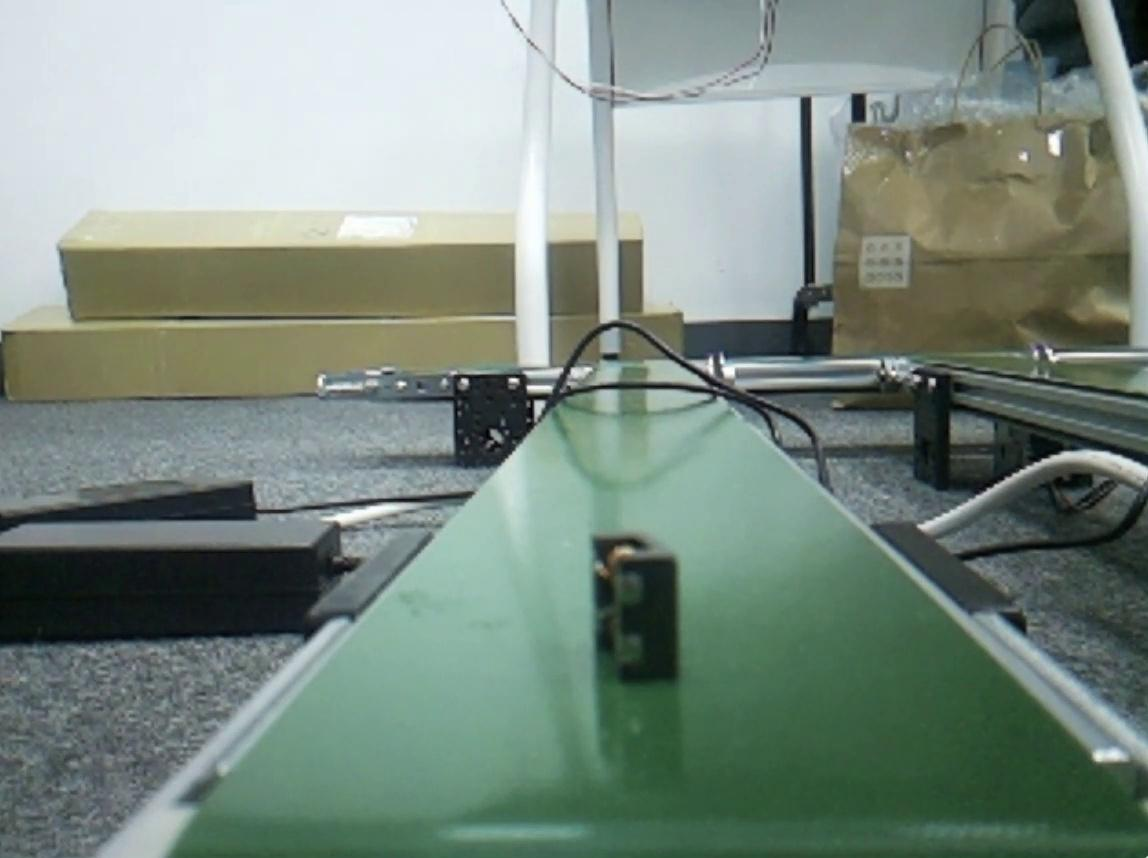inductor: (588, 532, 672, 686)
